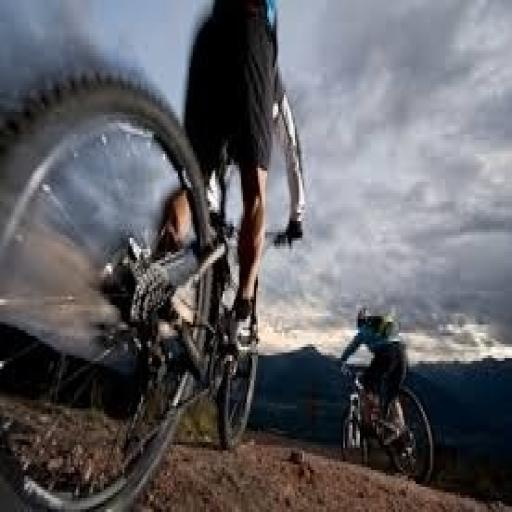cycling: (170, 0, 308, 355), (338, 302, 412, 451)
